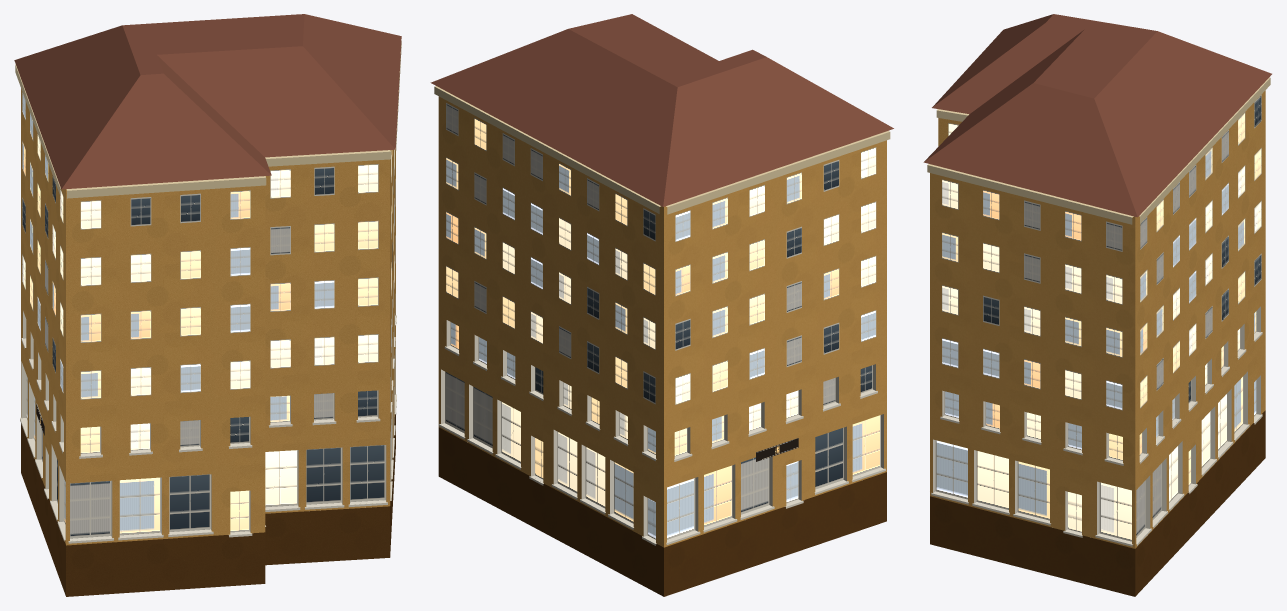
The model's file is langB_l104.glb.
The picture shows the model from 3 angles, left to right: view 1: azimuth 30°, elevation 25°; view 2: azimuth 150°, elevation 25°; view 3: azimuth 270°, elevation 25°; orthographic projection. The views are drawn at different scales.
Visible parts, largest first — view 1: langB_l104; view 2: langB_l104; view 3: langB_l104.
Boxes of the visible parts, bbox=[...] form: langB_l104: bbox=[14, 14, 401, 596]; langB_l104: bbox=[430, 14, 893, 596]; langB_l104: bbox=[923, 14, 1271, 596].
Size of the model in its own units: 25.15 by 27.91 by 19.76.
3 materials, 3 textured.
